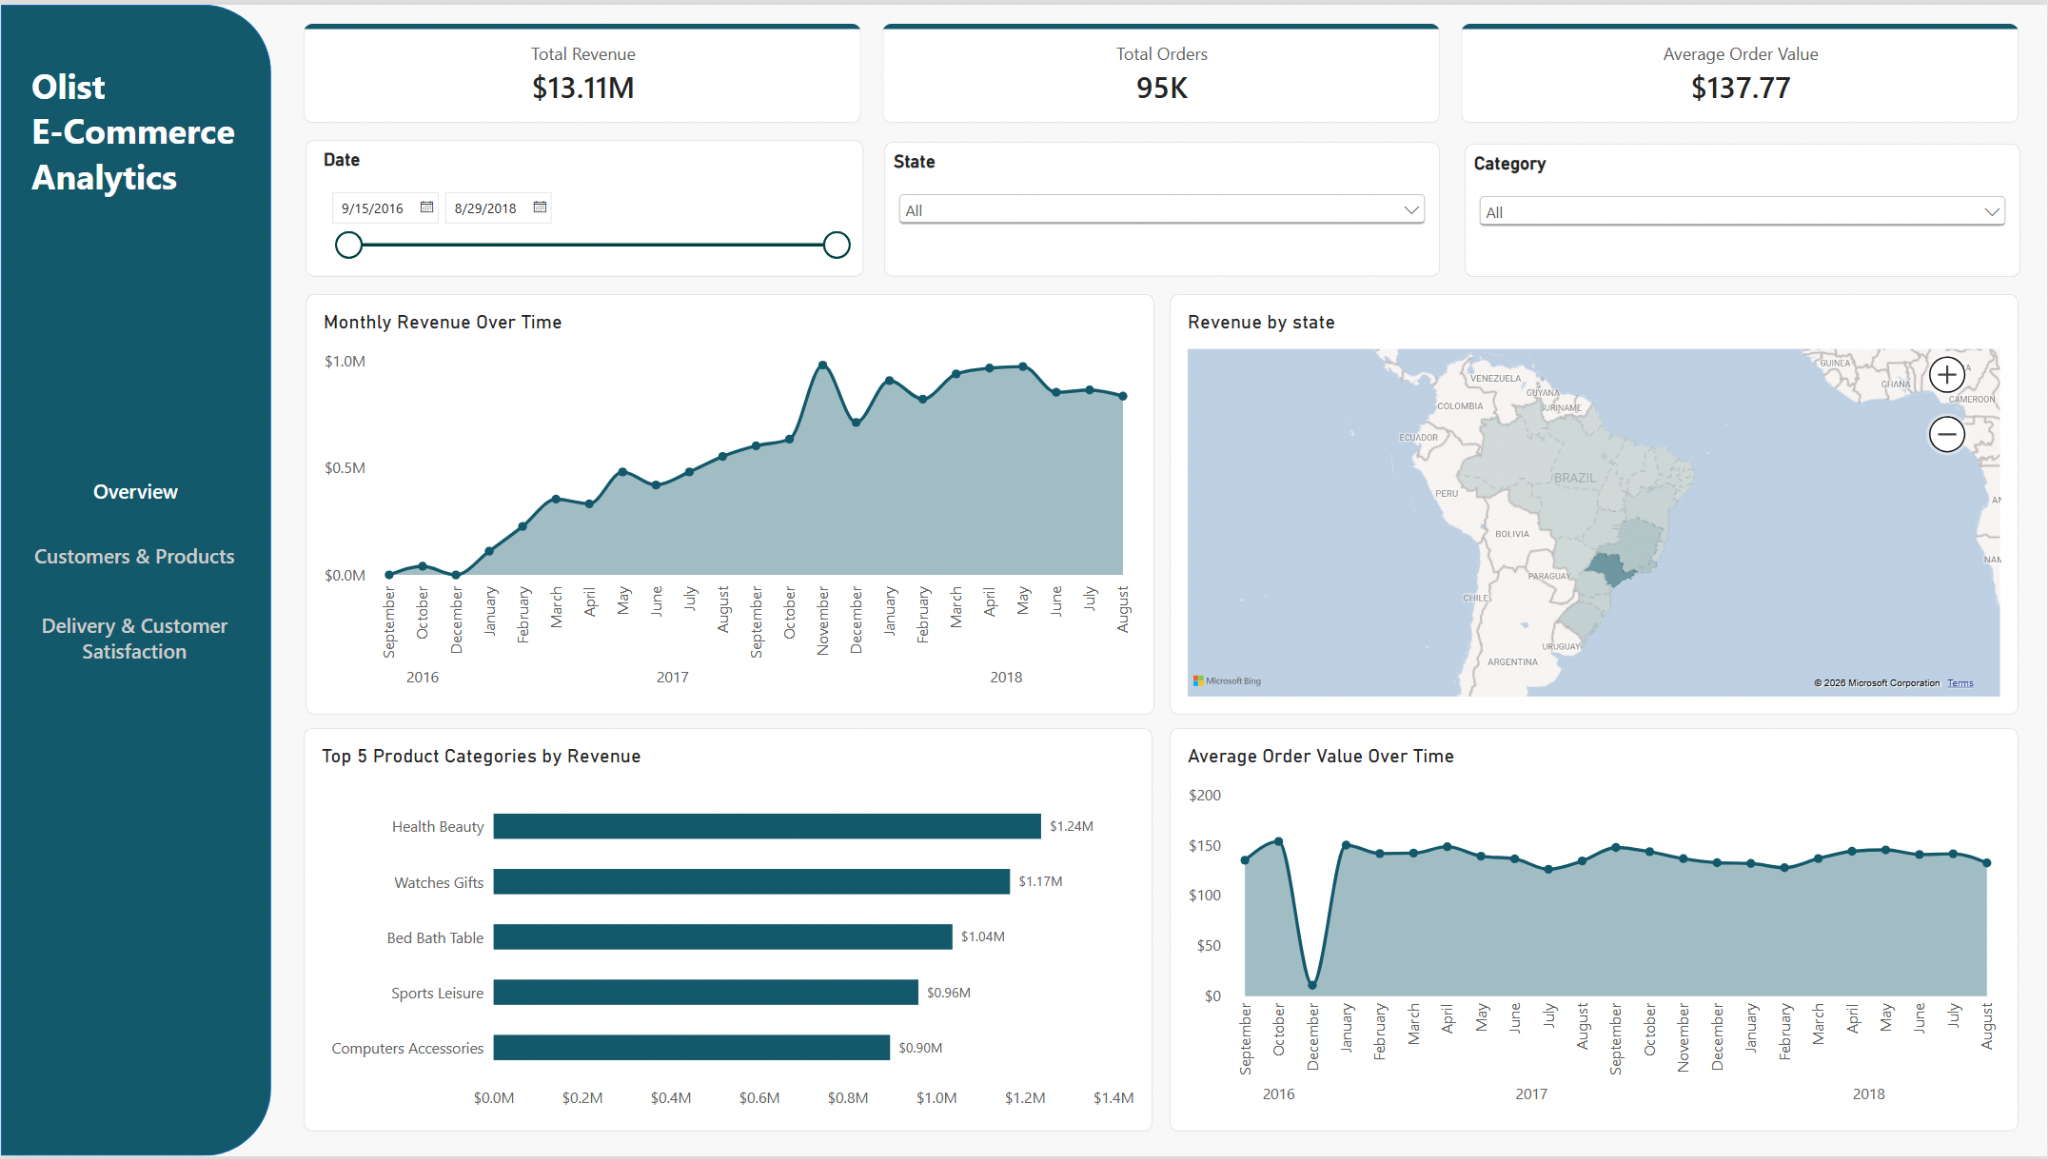

What the dashboard file says about the page in this screenshot:
{"tool":"powerbi","page":{"name":"Sales Overview","canvas":[1920,1080],"ordinal":0},"visuals":[{"type":"cardVisual","fields":{"Data":["public order_facts.Total Revenue","public order_facts.Total Orders","public order_facts.Average Order Value"]},"box":[283.9,17.9,1610.7,93],"z":0},{"type":"slicer","title":"Category","fields":{"Values":["public order_facts.product_category_name_english"]},"box":[1373.3,129.6,521.7,125],"z":1000},{"type":"slicer","title":"Date","fields":{"Values":["public order_facts.order_purchase_timestamp"]},"box":[285.7,126.8,523.3,128.3],"z":2000},{"type":"slicer","title":"State","fields":{"Values":["public order_facts.state_name"]},"box":[828.3,128,521.7,126.7],"z":3000},{"type":"shape","box":[0,0,253.3,1080],"z":4000},{"type":"textbox","box":[28.3,53.3,196.7,135],"z":5000},{"type":"actionButton","title":"Sale Overview","box":[56.7,436.7,138.3,31.7],"z":6000},{"type":"actionButton","title":"Customers & Products","box":[16.7,493.3,218.3,48.3],"z":7000},{"type":"actionButton","title":"Delivery & Customer Satisfaction","box":[16.7,556.7,218.3,75],"z":8000},{"type":"filledMap","title":"Revenue by state","fields":{"Category":["public state_geo.state_name"]},"box":[1096.4,271.4,796.4,394.6],"z":9000},{"type":"lineChart","title":"Average Order Value Over Time","fields":{"Category":["public order_facts.order_purchase_timestamp.Variation.Date Hierarchy.Year","public order_facts.order_purchase_timestamp.Variation.Date Hierarchy.Month"],"Y":["public order_facts.Average Order Value"]},"box":[1096.4,678.6,796.4,378.6],"z":10000},{"type":"clusteredBarChart","title":"Top 5 Product Categories by Revenue","fields":{"Category":["public order_facts.product_category_name_english"],"Y":["public order_facts.Total Revenue"]},"box":[283.9,678.6,796.4,378.6],"z":11000},{"type":"lineChart","title":"Monthly Revenue Over Time","fields":{"Category":["public order_facts.order_purchase_timestamp.Variation.Date Hierarchy.Year","public order_facts.order_purchase_timestamp.Variation.Date Hierarchy.Month"],"Y":["public order_facts.Total Revenue"]},"box":[285.7,271.4,796.4,394.6],"z":12000}]}

Visuals, with their boxes in screenshot pixels (x1, y1, x2, y2), scaled from the page's 1920x1080 canvas onto the 2048x1159 screenshot:
cardVisual - public order_facts.Total Revenue x public order_facts.Total Orders: Rect(303, 19, 2021, 119)
"Category" slicer: Rect(1465, 139, 2021, 273)
"Date" slicer: Rect(305, 136, 863, 274)
"State" slicer: Rect(884, 137, 1440, 273)
shape: Rect(0, 0, 270, 1158)
textbox: Rect(30, 57, 240, 202)
"Sale Overview" actionButton: Rect(60, 469, 208, 503)
"Customers & Products" actionButton: Rect(18, 529, 251, 581)
"Delivery & Customer Satisfaction" actionButton: Rect(18, 597, 251, 678)
"Revenue by state" filledMap: Rect(1169, 291, 2019, 715)
"Average Order Value Over Time" lineChart: Rect(1169, 728, 2019, 1135)
"Top 5 Product Categories by Revenue" clusteredBarChart: Rect(303, 728, 1152, 1135)
"Monthly Revenue Over Time" lineChart: Rect(305, 291, 1154, 715)
